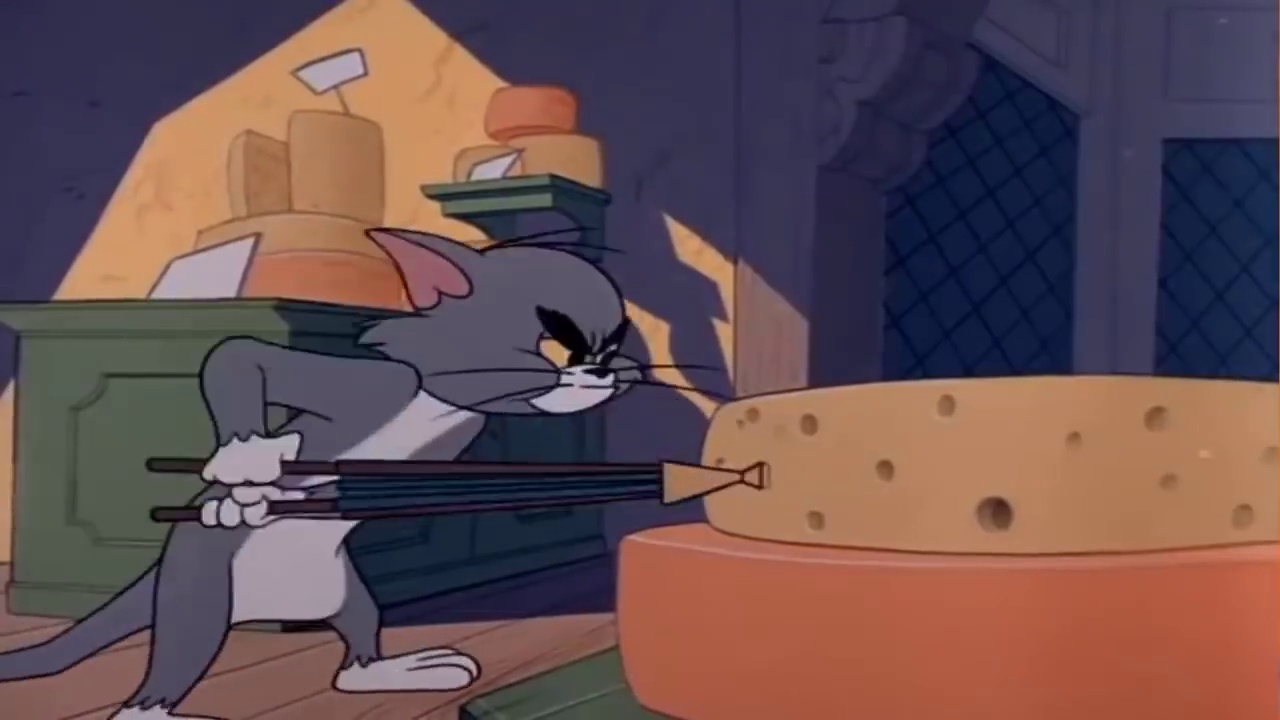face: (509, 295, 632, 415)
